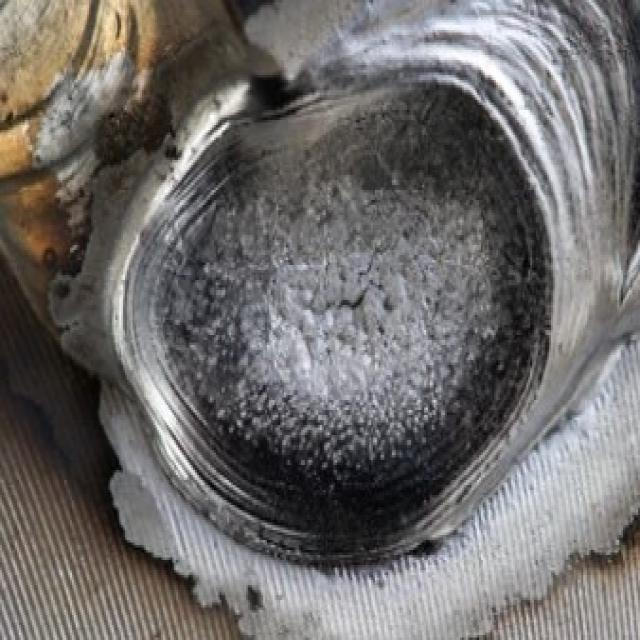Dry Waste: (98, 62, 570, 582), (301, 272, 384, 322)
